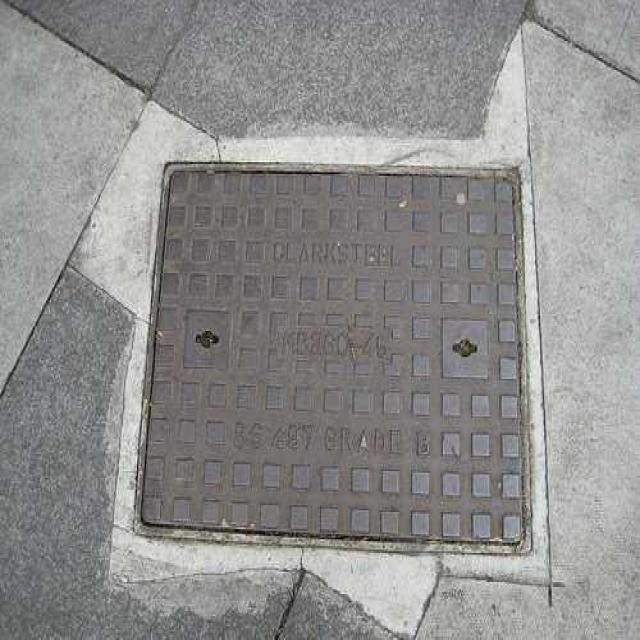manhole: (134, 80, 547, 561)
